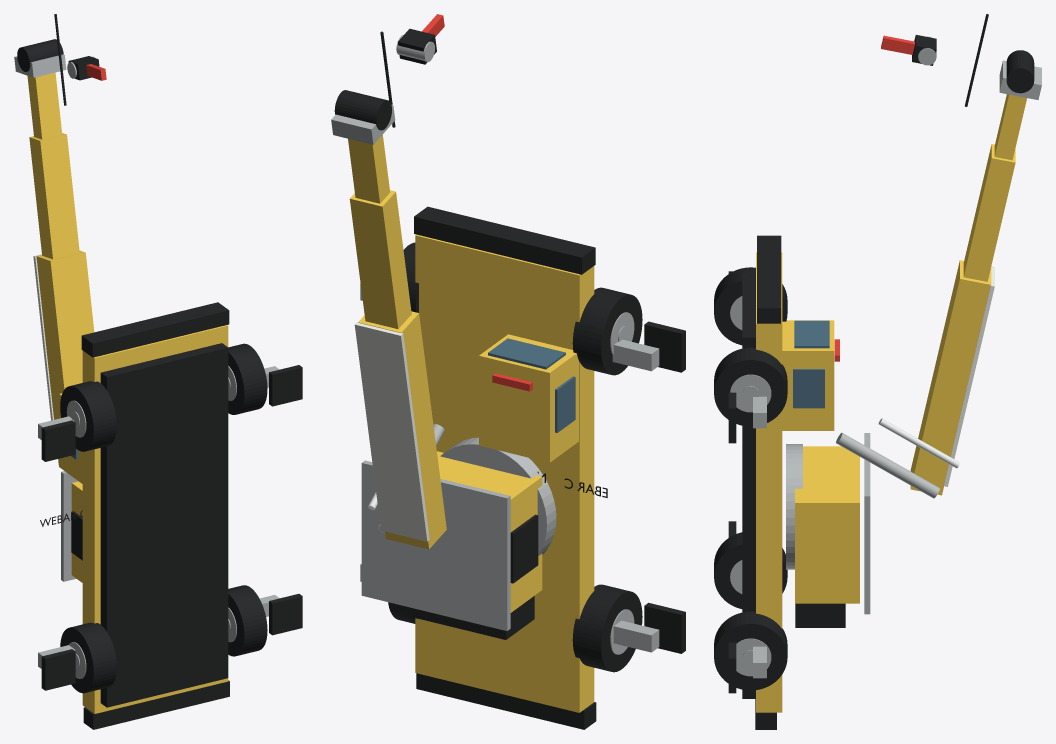
Rendered from webar_crane_generated.glb.
3 views of the same model, side by side, from view 1: azimuth 30°, elevation 25°; view 2: azimuth 150°, elevation 25°; view 3: azimuth 270°, elevation 25° (orthographic). The views are drawn at different scales.
Parts seen in each view (by area): view 1: Chassis_UnderFrame, Chassis_MainFrame, BoomBase_Section, Boom_SecondStage, Front_Bumper, FrontWheel_FL_Tire, RearWheel_RL_Tire, Rear_Counter_Bumper, FrontWheel_FR_Tire, RearWheel_RR_Tire, Boom_ThirdStage, Outrigger_Rear_L_Foot (+10 smaller); view 2: Chassis_MainFrame, MachineryDeck_Railing, BoomBase_TopStripe, DriverCab_Body, Boom_SecondStage, Front_Bumper, BoomBase_Section, UpperHouse_Main, RearWheel_RL_Tire, FrontWheel_FL_Tire, Rear_Counter_Bumper, Turntable_BaseRing (+13 smaller); view 3: UpperHouse_Main, BoomBase_Section, Chassis_MainFrame, Chassis_UnderFrame, Boom_SecondStage, DriverCab_Body, RearWheel_RR_Tire, FrontWheel_FR_Tire, Front_Bumper, FrontWheel_FL_Tire, RearWheel_RL_Tire, Turntable_BaseRing (+12 smaller).
Boxes of the visible parts, bbox=[...] form: Chassis_UnderFrame: bbox=[100, 343, 228, 707]; Chassis_MainFrame: bbox=[82, 325, 228, 713]; BoomBase_Section: bbox=[36, 250, 94, 464]; Boom_SecondStage: bbox=[29, 133, 79, 259]; Front_Bumper: bbox=[81, 302, 229, 357]; FrontWheel_FL_Tire: bbox=[60, 381, 116, 451]; RearWheel_RL_Tire: bbox=[60, 622, 116, 693]; Rear_Counter_Bumper: bbox=[83, 680, 229, 729]; FrontWheel_FR_Tire: bbox=[228, 343, 267, 414]; RearWheel_RR_Tire: bbox=[228, 585, 267, 656]; Boom_ThirdStage: bbox=[27, 72, 62, 139]; Outrigger_Rear_L_Foot: bbox=[41, 649, 75, 690]; Chassis_MainFrame: bbox=[415, 234, 594, 712]; MachineryDeck_Railing: bbox=[361, 460, 510, 630]; BoomBase_TopStripe: bbox=[354, 322, 429, 541]; DriverCab_Body: bbox=[479, 334, 578, 462]; Boom_SecondStage: bbox=[349, 190, 411, 328]; Front_Bumper: bbox=[414, 206, 595, 274]; BoomBase_Section: bbox=[358, 311, 446, 549]; UpperHouse_Main: bbox=[437, 451, 542, 612]; RearWheel_RL_Tire: bbox=[572, 584, 642, 672]; FrontWheel_FL_Tire: bbox=[572, 287, 642, 375]; Rear_Counter_Bumper: bbox=[416, 673, 596, 729]; Turntable_BaseRing: bbox=[440, 437, 556, 555]; UpperHouse_Main: bbox=[795, 446, 859, 603]; BoomBase_Section: bbox=[910, 260, 991, 495]; Chassis_MainFrame: bbox=[756, 252, 782, 712]; Chassis_UnderFrame: bbox=[742, 273, 755, 698]; Boom_SecondStage: bbox=[963, 144, 1015, 281]; DriverCab_Body: bbox=[782, 320, 834, 430]; RearWheel_RR_Tire: bbox=[714, 611, 787, 690]; FrontWheel_FR_Tire: bbox=[714, 347, 787, 426]; Front_Bumper: bbox=[757, 235, 781, 323]; FrontWheel_FL_Tire: bbox=[714, 267, 787, 345]; RearWheel_RL_Tire: bbox=[714, 532, 787, 608]; Turntable_BaseRing: bbox=[786, 444, 802, 569].
Bounding box in the file's own units: 4.24 × 9.78 × 4.28.
